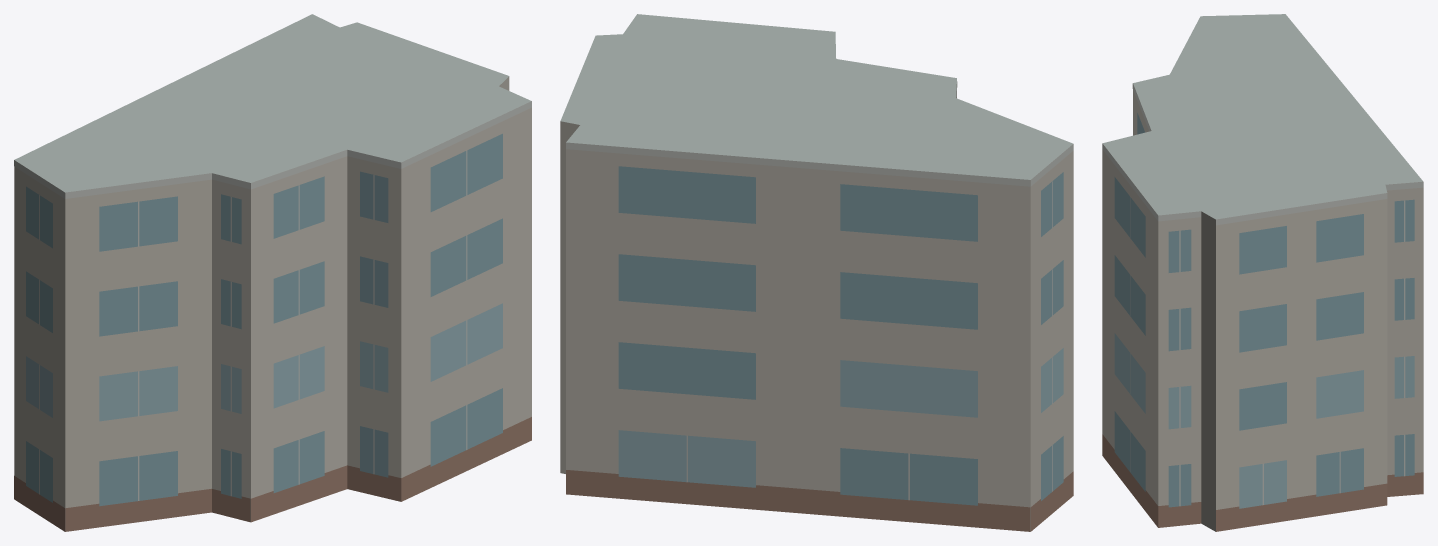
Rendered from survey-upis-32620017.glb.
The picture shows the model from 3 angles, left to right: view 1: azimuth 30°, elevation 25°; view 2: azimuth 150°, elevation 25°; view 3: azimuth 270°, elevation 25°; orthographic projection. The views are drawn at different scales.
Visible parts, largest first — view 1: survey-upis-32620017.tmp; view 2: survey-upis-32620017.tmp; view 3: survey-upis-32620017.tmp.
Part boxes in pixels (bbox=[...]): survey-upis-32620017.tmp: bbox=[14, 14, 531, 531]; survey-upis-32620017.tmp: bbox=[560, 14, 1073, 531]; survey-upis-32620017.tmp: bbox=[1102, 14, 1423, 531].
Size of the model in its own units: 18.07 by 12.8 by 11.94.
